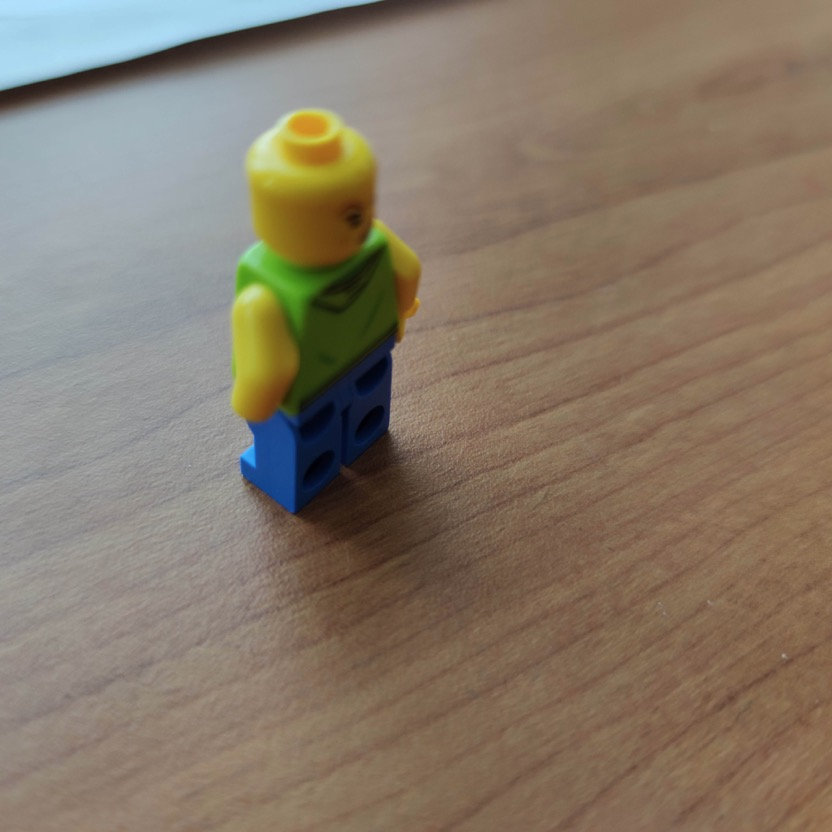lego: (227, 107, 425, 516)
